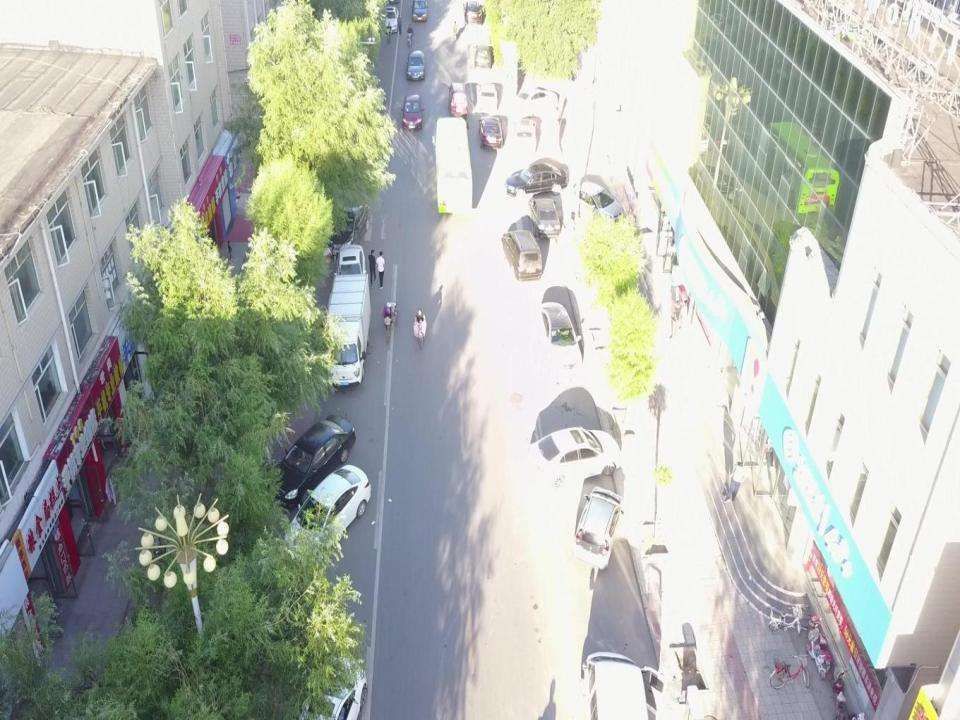bus: (434, 117, 474, 212)
car: (278, 464, 372, 571), (269, 411, 354, 512), (522, 426, 620, 494), (582, 651, 658, 720), (294, 652, 368, 720), (575, 488, 623, 572), (535, 302, 584, 374), (566, 179, 624, 228), (506, 157, 568, 200), (327, 199, 369, 255), (502, 232, 541, 282), (336, 246, 366, 294), (528, 195, 560, 238), (511, 86, 556, 116), (478, 115, 503, 148), (513, 122, 537, 154), (402, 96, 423, 129), (476, 83, 498, 112), (378, 4, 398, 33), (407, 50, 424, 83), (463, 2, 484, 26), (474, 43, 493, 69), (412, 0, 430, 23)
truck: (322, 271, 371, 385)
van: (448, 81, 468, 117)
